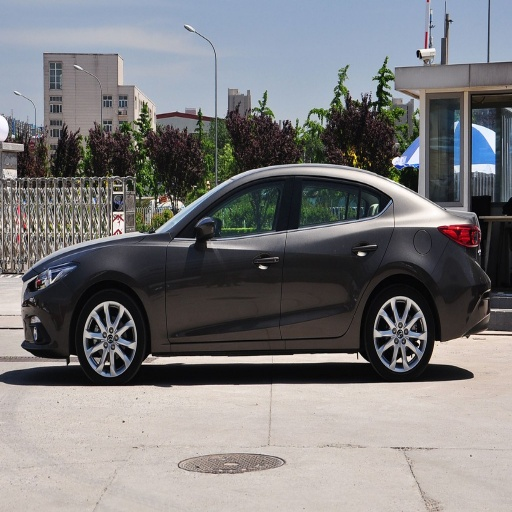_background_: (435, 273, 489, 336)
back_glass: (283, 173, 393, 349)
back_left_door: (440, 222, 480, 249)
back_right_light: (25, 286, 62, 351)
front_glass: (166, 174, 289, 352)
trunk: (73, 290, 145, 382), (363, 286, 434, 378)
